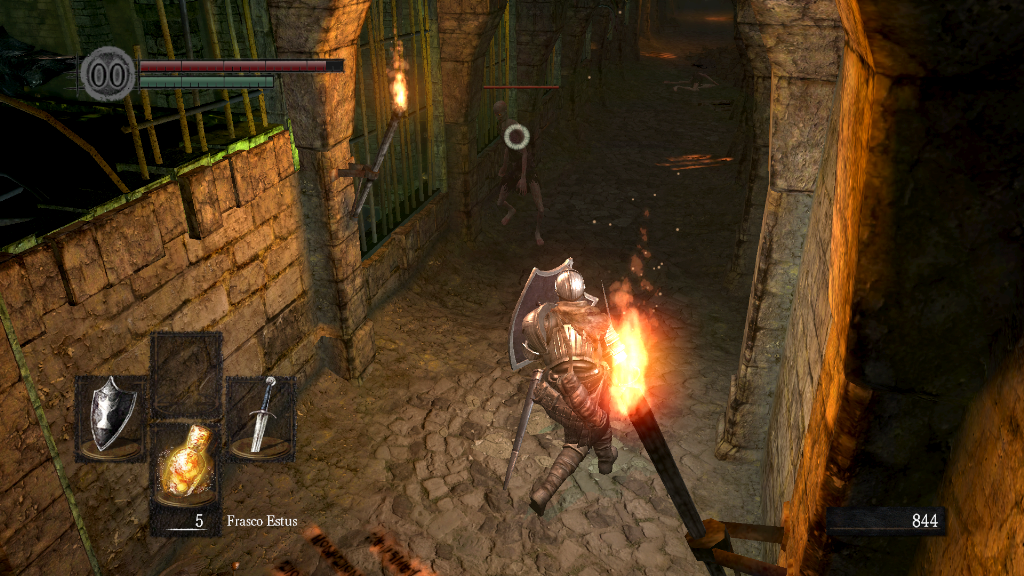health: (138, 58, 343, 71)
hollow: (486, 101, 549, 247)
humanity: (80, 45, 136, 102)
player: (504, 255, 619, 516)
souls: (825, 506, 945, 536)
stamina: (138, 74, 274, 88)
